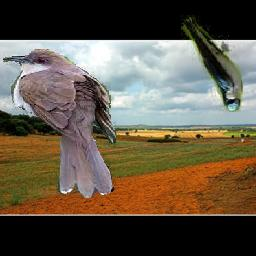Cuckoo: (4, 48, 117, 198)
Swallow: (181, 16, 243, 113)
